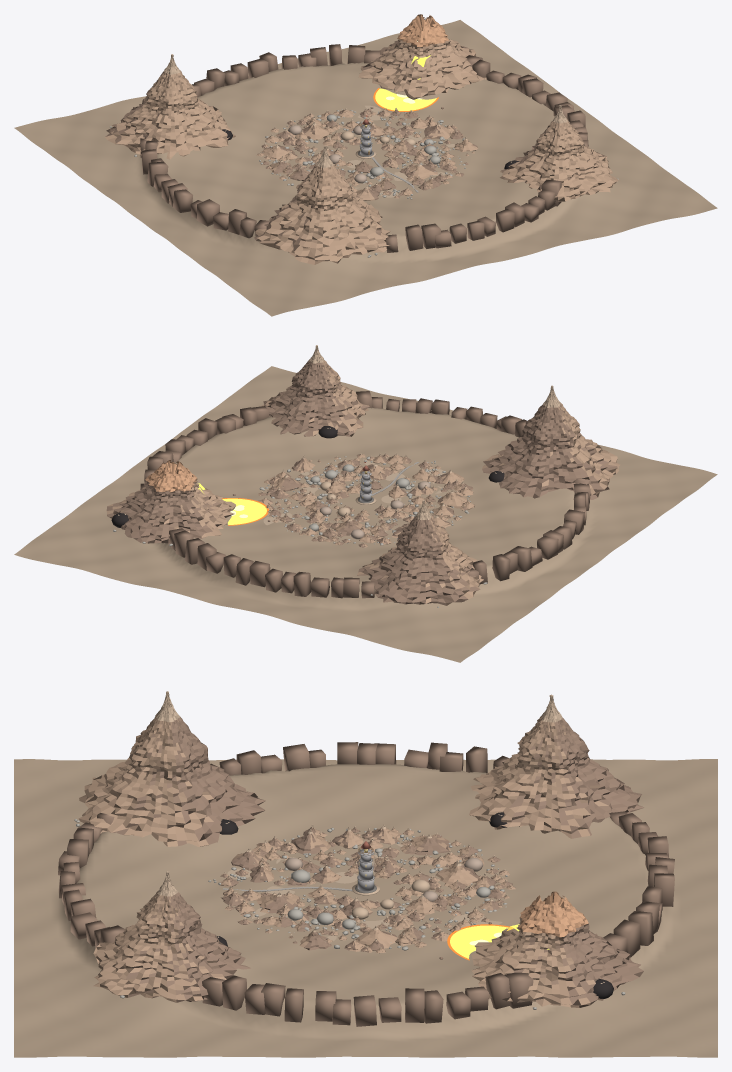
Rendered from Map2.fbx.
The picture shows the model from 3 angles, top to bottom: view 1: azimuth 30°, elevation 25°; view 2: azimuth 150°, elevation 25°; view 3: azimuth 270°, elevation 25°; orthographic projection. The views are drawn at different scales.
Visible parts, largest first — view 1: A2_Ground_Plain, A2_Mtn_SW, A2_Mtn_NW, A2_Mtn_NE, A2_Mtn_SE, A2_Lava_Pool; view 2: A2_Ground_Plain, A2_Mtn_SW, A2_Mtn_NW, A2_Mtn_NE, A2_Mtn_SE, A2_Lava_Pool; view 3: A2_Ground_Plain, A2_Mtn_SW, A2_Mtn_NW, A2_Mtn_NE, A2_Mtn_SE, A2_Lava_Pool, A2_Cliff_74, A2_Cliff_06, A2_Cliff_02, A2_Cliff_07, A2_Cliff_00, A2_HillL_007 (+10 smaller).
Boxes of the visible parts, x1=… form: A2_Ground_Plain: x1=14, y1=20, x2=717, y2=316; A2_Mtn_SW: x1=254, y1=145, x2=390, y2=264; A2_Mtn_NW: x1=105, y1=54, x2=235, y2=159; A2_Mtn_NE: x1=358, y1=14, x2=486, y2=99; A2_Mtn_SE: x1=500, y1=105, x2=618, y2=201; A2_Lava_Pool: x1=375, y1=88, x2=436, y2=110; A2_Ground_Plain: x1=14, y1=366, x2=717, y2=662; A2_Mtn_SW: x1=482, y1=385, x2=620, y2=499; A2_Mtn_NW: x1=357, y1=500, x2=483, y2=605; A2_Mtn_NE: x1=106, y1=460, x2=235, y2=543; A2_Mtn_SE: x1=260, y1=345, x2=369, y2=436; A2_Lava_Pool: x1=222, y1=498, x2=266, y2=524; A2_Ground_Plain: x1=14, y1=759, x2=717, y2=1057; A2_Mtn_SW: x1=78, y1=691, x2=265, y2=846; A2_Mtn_NW: x1=469, y1=694, x2=644, y2=838; A2_Mtn_NE: x1=471, y1=891, x2=643, y2=1007; A2_Mtn_SE: x1=93, y1=871, x2=250, y2=1002; A2_Lava_Pool: x1=450, y1=925, x2=508, y2=958; A2_Cliff_74: x1=222, y1=975, x2=246, y2=1010; A2_Cliff_06: x1=485, y1=973, x2=510, y2=1009; A2_Cliff_02: x1=405, y1=988, x2=424, y2=1022; A2_Cliff_07: x1=504, y1=972, x2=533, y2=1008; A2_Cliff_00: x1=353, y1=995, x2=376, y2=1026; A2_HillL_007: x1=435, y1=861, x2=479, y2=886.
Bounding box in the file's own units: 22000 × 4949 × 22000.
